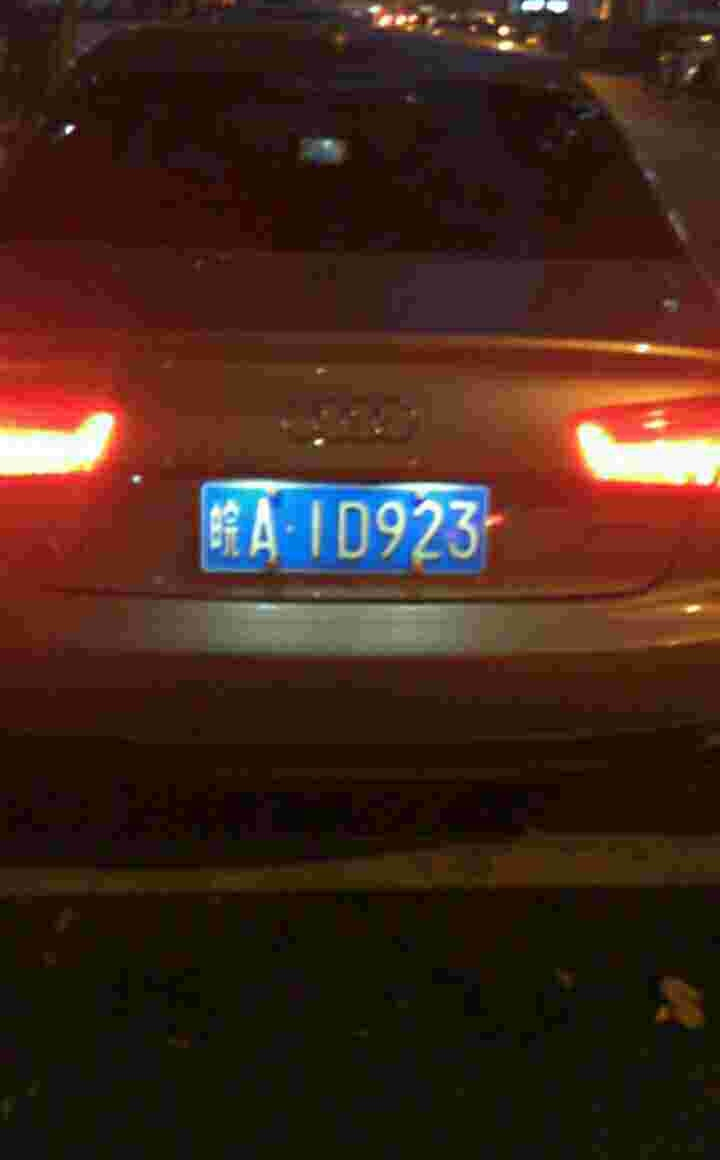license_plate: (200, 481, 488, 580)
